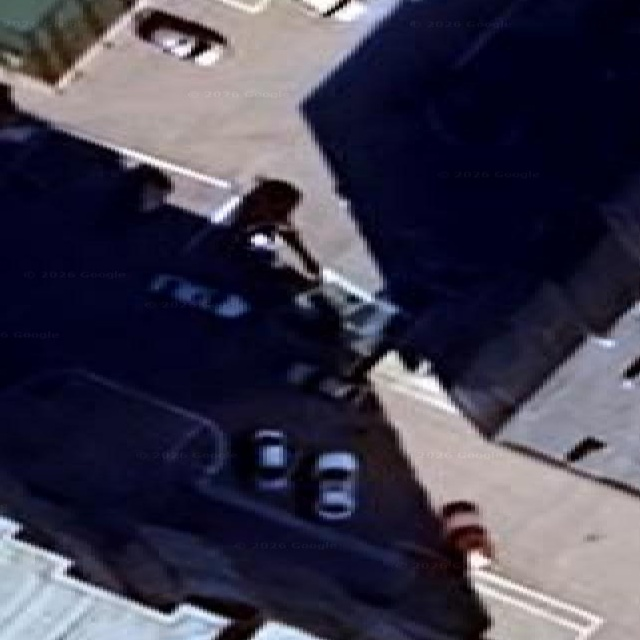car: (135, 9, 226, 66), (313, 451, 358, 520), (252, 428, 293, 489), (298, 0, 365, 21)
